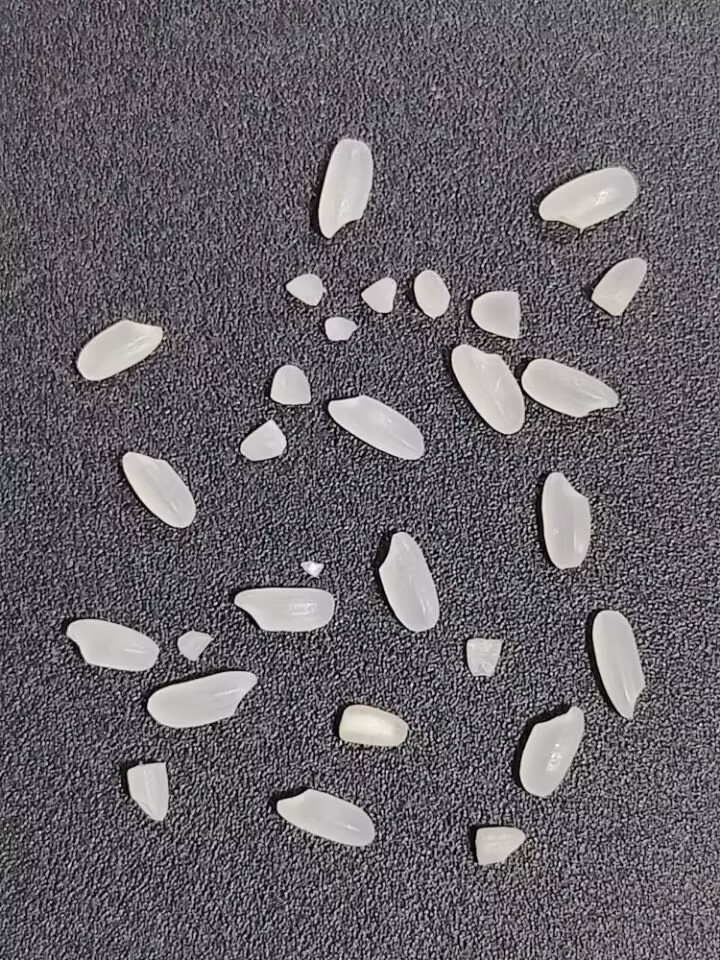broken: (590, 253, 648, 318), (336, 704, 409, 748), (468, 288, 525, 341), (125, 758, 169, 824), (237, 416, 288, 465), (473, 826, 529, 868), (266, 361, 318, 406), (411, 268, 450, 320), (363, 274, 405, 318), (465, 635, 507, 678), (284, 268, 330, 306), (170, 626, 219, 660), (322, 315, 360, 345)
rice: (442, 342, 526, 444), (322, 392, 430, 467), (145, 667, 260, 729), (536, 164, 640, 232), (516, 701, 589, 796), (377, 531, 442, 635), (118, 449, 197, 530), (521, 356, 622, 419), (591, 607, 647, 720), (274, 786, 375, 848), (316, 137, 375, 242), (75, 316, 165, 382), (538, 467, 593, 572), (60, 615, 161, 672), (230, 586, 336, 633)
